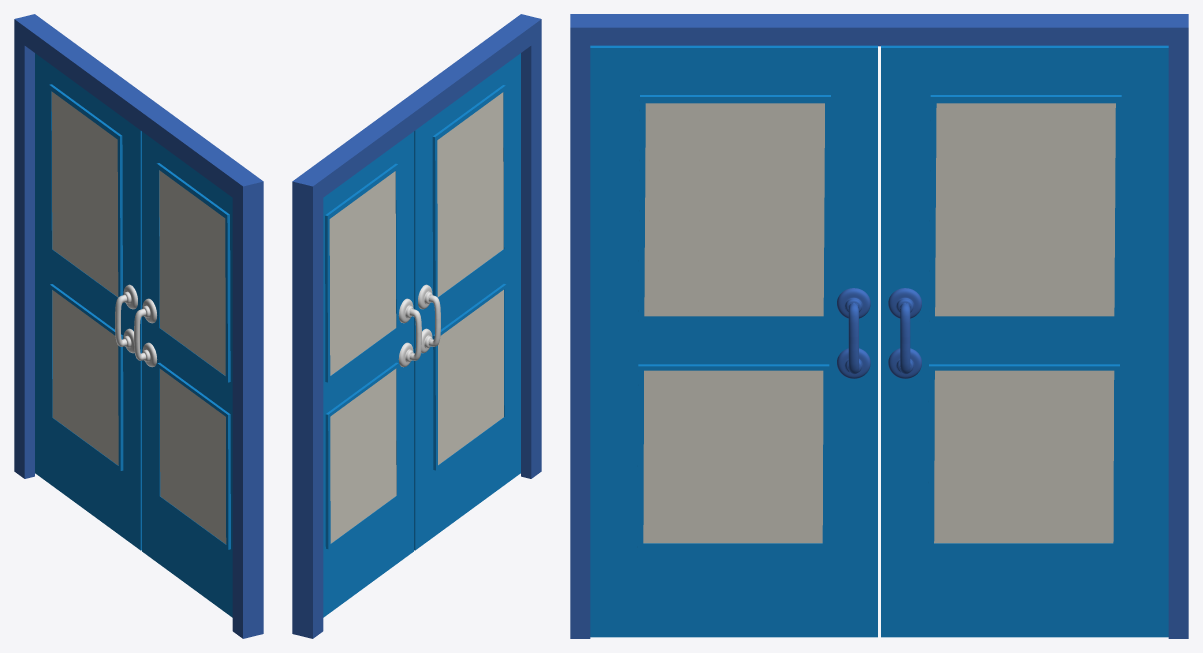
File: school hall fbx.fbx_school_main_door.fbx
3 views of the same model, side by side, from view 1: azimuth 30°, elevation 25°; view 2: azimuth 150°, elevation 25°; view 3: azimuth 270°, elevation 25° (orthographic). The views are drawn at different scales.
Parts seen in each view (by area): view 1: Door.001, Door, DoorFrame, Handle_Front, Handle_Front.001; view 2: Door, Door.001, DoorFrame, Handle_Front.001, Handle_Front; view 3: Door.001, Door, DoorFrame, Handle_Back.001, Handle_Back.
Part boxes in pixels (box(x1,y1,x2,y2)): Door.001: box(35, 53, 141, 550); Door: box(142, 131, 232, 617); DoorFrame: box(14, 14, 263, 638); Handle_Front: box(134, 298, 157, 367); Handle_Front.001: box(115, 284, 137, 353); Door: box(414, 53, 520, 550); Door.001: box(323, 131, 413, 617); DoorFrame: box(292, 14, 541, 638); Handle_Front.001: box(398, 298, 421, 367); Handle_Front: box(418, 284, 440, 353); Door.001: box(881, 45, 1168, 637); Door: box(590, 45, 877, 637); DoorFrame: box(570, 14, 1188, 638); Handle_Back.001: box(888, 288, 921, 378); Handle_Back: box(837, 288, 870, 378).
Size of the model in its own units: 15.67 by 168 by 154.
